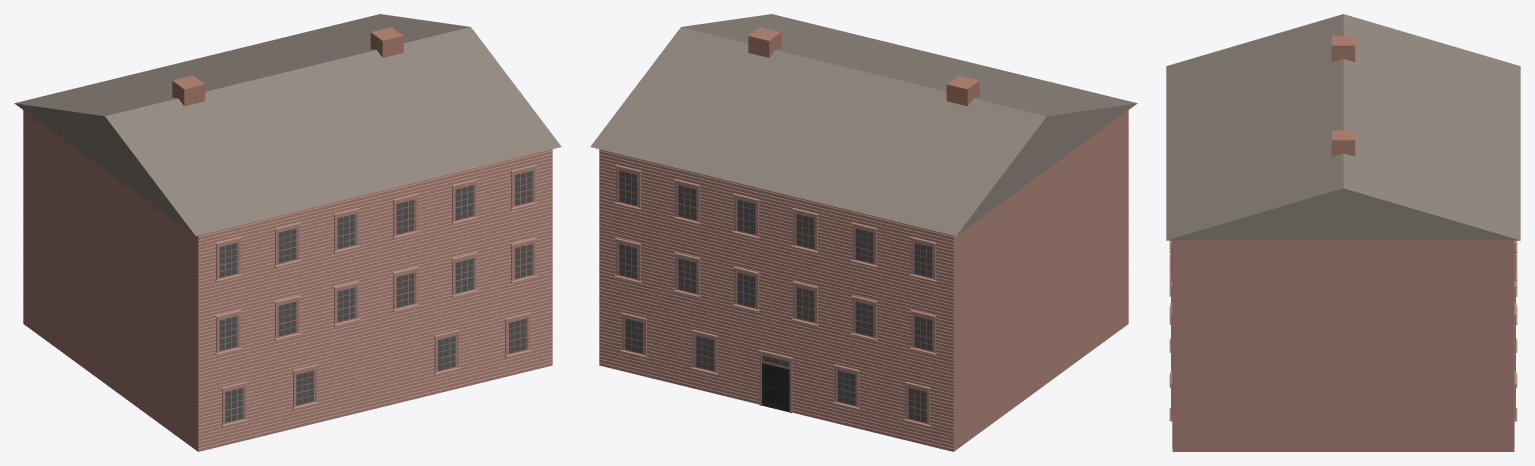
The model's file is recon_1835_gifford_h3_018__inferred_1835.glb.
3 renders of one model, left to right at view 1: azimuth 30°, elevation 25°; view 2: azimuth 150°, elevation 25°; view 3: azimuth 270°, elevation 25°, orthographic. The views are drawn at different scales.
Parts seen in each view (by area): view 1: recon_1835_gifford_h3_018__inferred_1835; view 2: recon_1835_gifford_h3_018__inferred_1835; view 3: recon_1835_gifford_h3_018__inferred_1835.
Part boxes in pixels (x1=…): recon_1835_gifford_h3_018__inferred_1835: x1=14, y1=14, x2=561, y2=451; recon_1835_gifford_h3_018__inferred_1835: x1=590, y1=14, x2=1137, y2=451; recon_1835_gifford_h3_018__inferred_1835: x1=1166, y1=14, x2=1520, y2=451.
Size of the model in its own units: 15.7 by 11.74 by 13.5.
